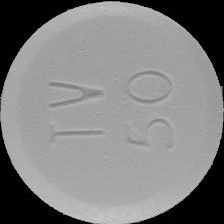0093-0050: (0, 0, 224, 224)
